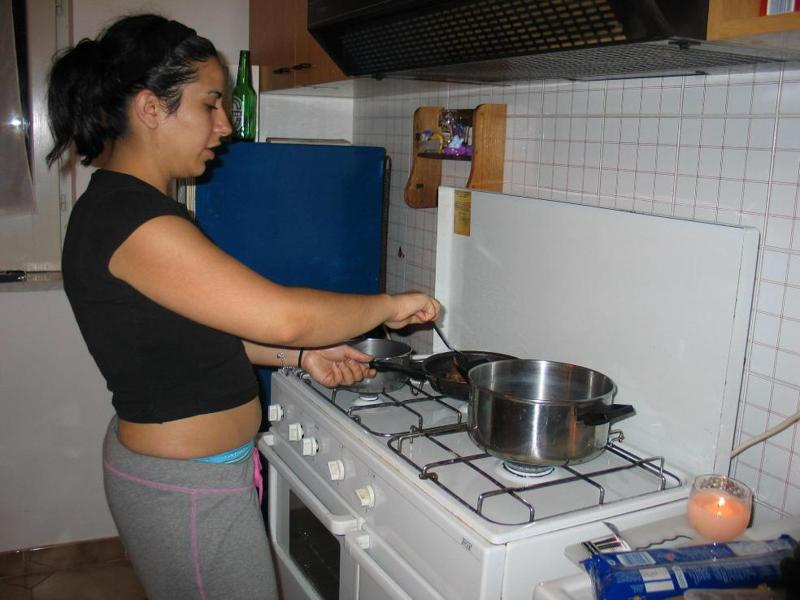person: (50, 17, 447, 596)
